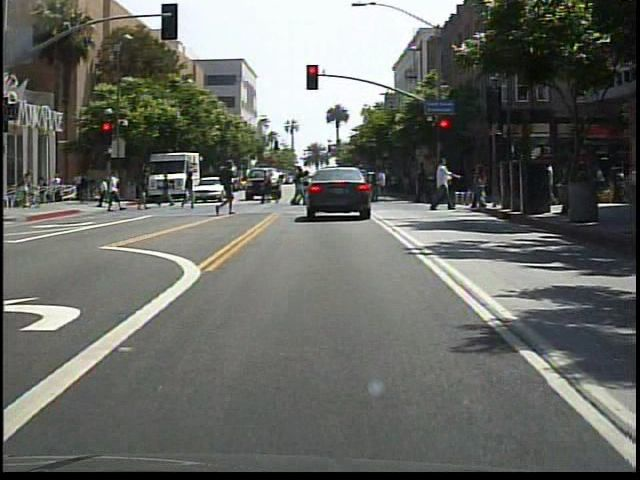person: (429, 156, 462, 214), (211, 160, 240, 217), (342, 166, 365, 217), (105, 170, 126, 219), (180, 170, 202, 211), (158, 170, 176, 211), (258, 169, 274, 207)
